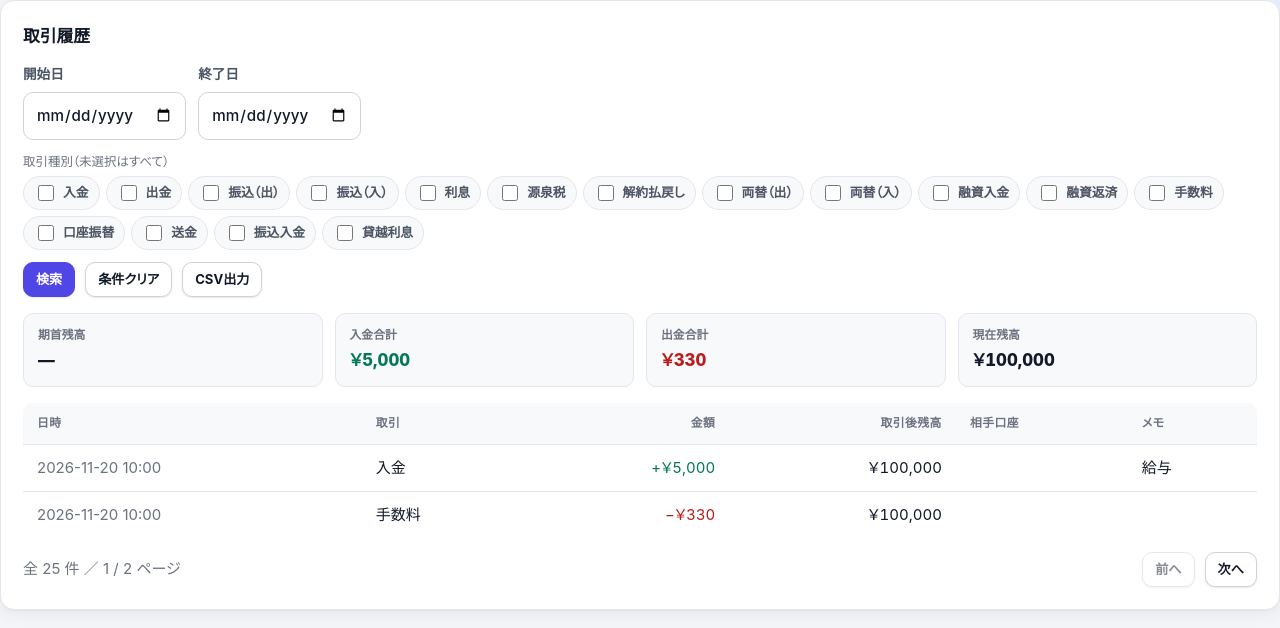
Test: TransactionHistory › 次ページを先読みし、ページ送りできる
This screenshot has width=1280, height=628.
Expected: the text "給与" is shown, [1128,445,1257,492]
Click the button "次へ".
click(1231, 569)  # box [1205,552,1257,587]
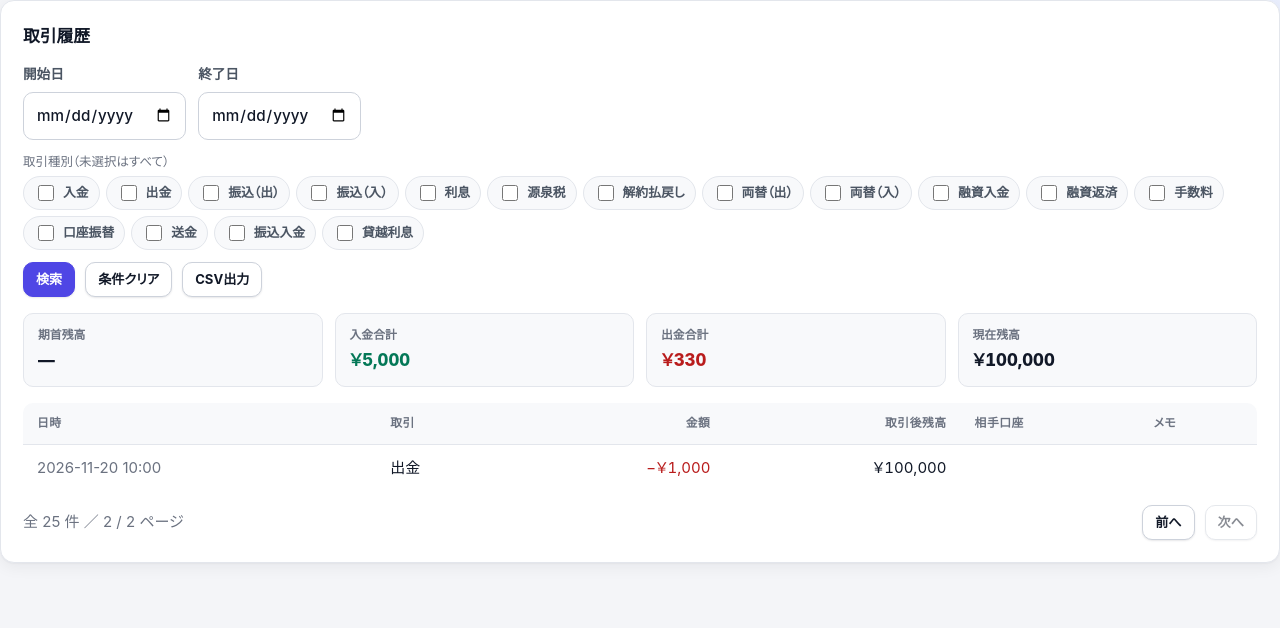
Now the text "全 25 件 ／ 2 / 2 ページ" is shown, box [23,510,184,534]
Now the button "次へ" is disabled, box [1205,505,1257,540]
Click the button "前へ".
click(1168, 522)  # box [1142,505,1195,540]
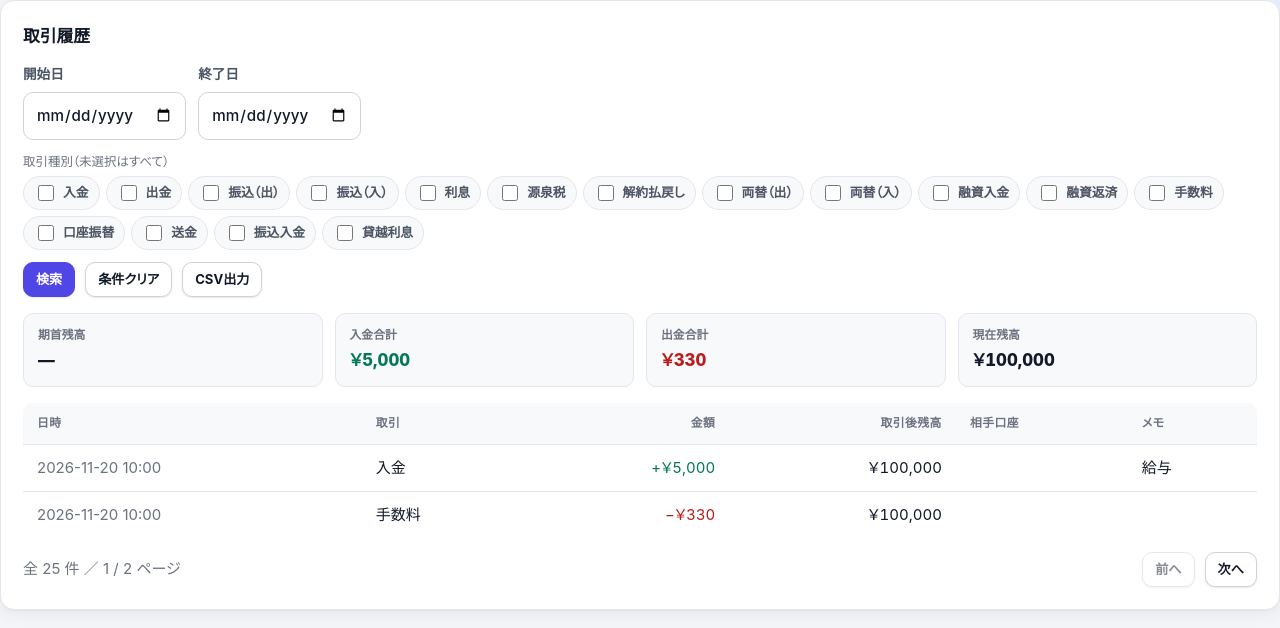
Now the text "給与" is shown, box [1128,445,1257,492]
